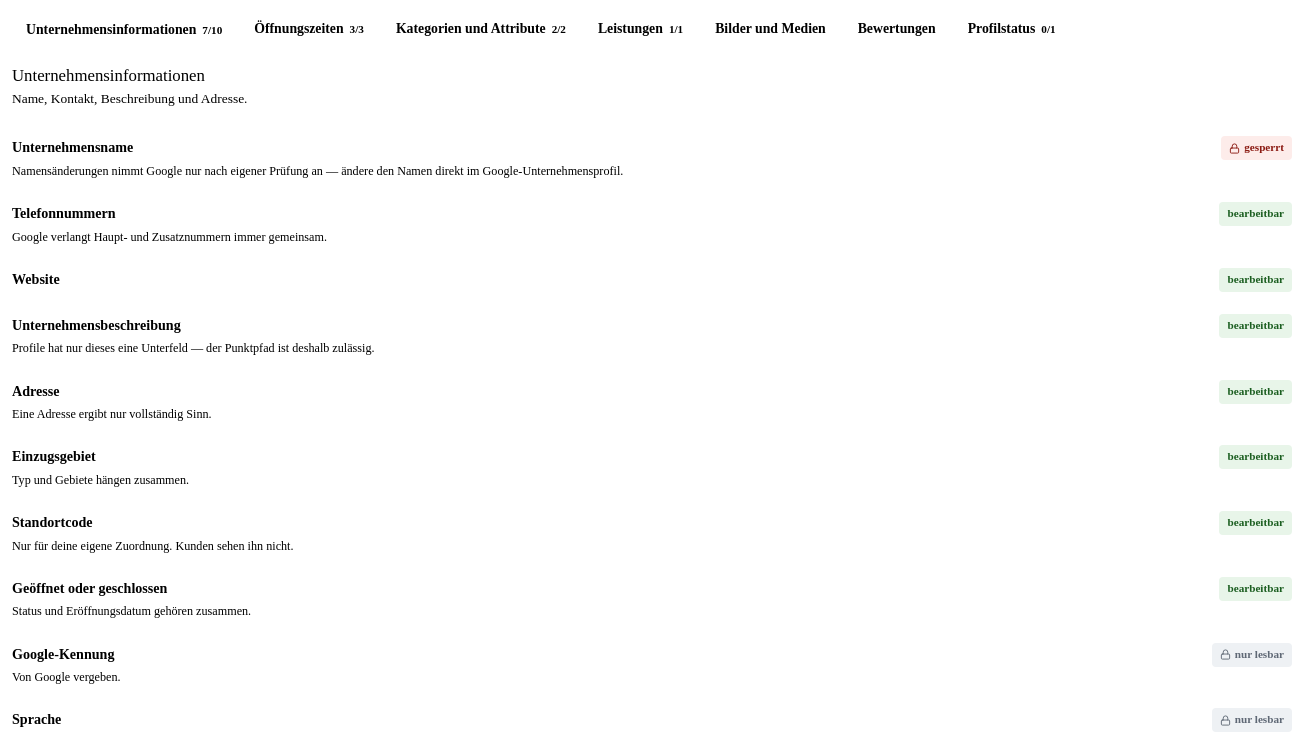
Test case: Unternavigation › wechselt den Bereich beim Klick
Click the button "Öffnungszeiten3/3". click: (309, 30)
box: x1=240 y1=12 x2=378 y2=48
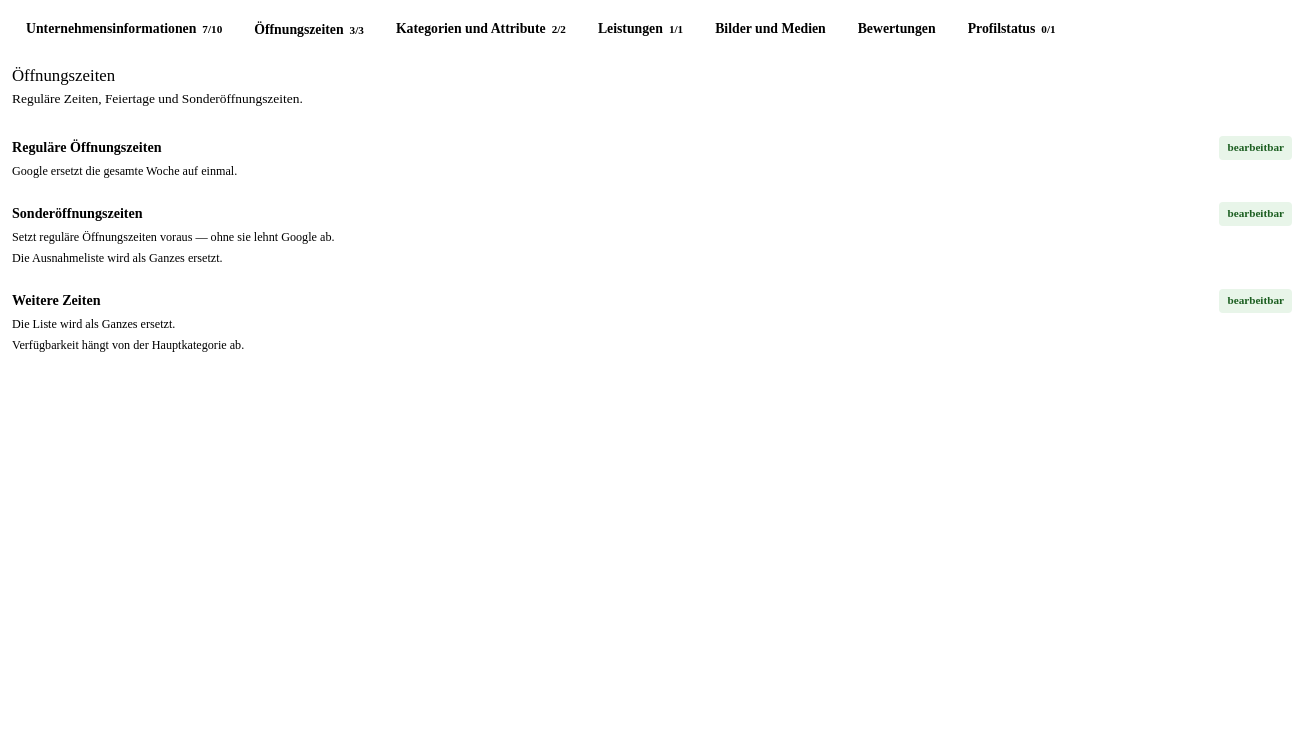
Expected: the heading "Öffnungszeiten" is shown, x1=12 y1=66 x2=115 y2=85
Expected: the text "Reguläre Öffnungszeiten" is shown, x1=12 y1=140 x2=162 y2=156
